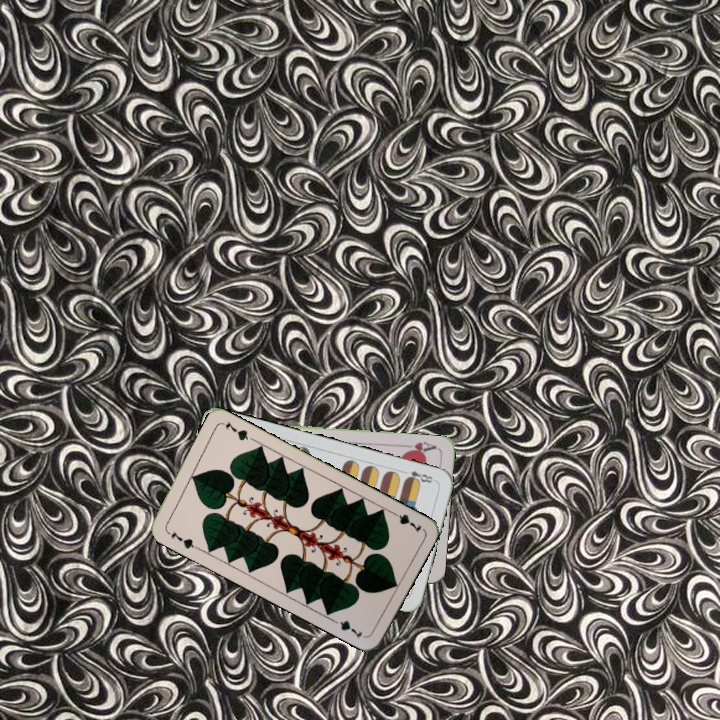E8: (399, 466, 438, 486)
G7: (387, 507, 424, 535), (167, 527, 200, 552)
HA: (399, 437, 439, 457)
